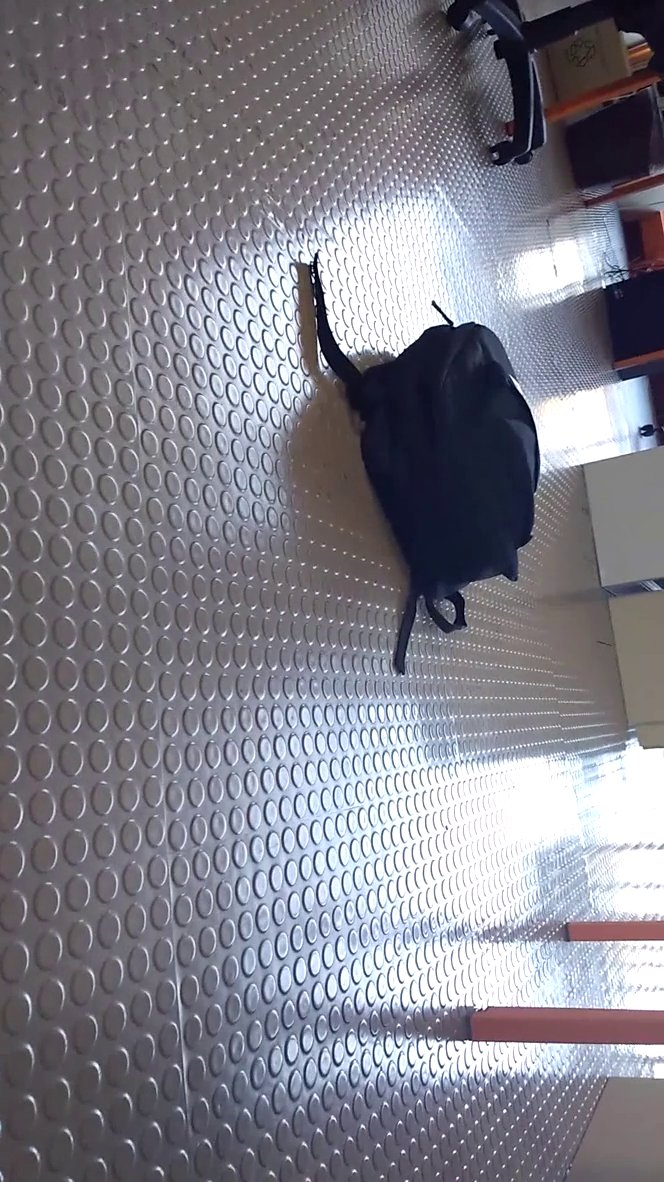bag: (301, 253, 557, 684)
bin: (563, 84, 664, 205)
box: (532, 17, 653, 100)
